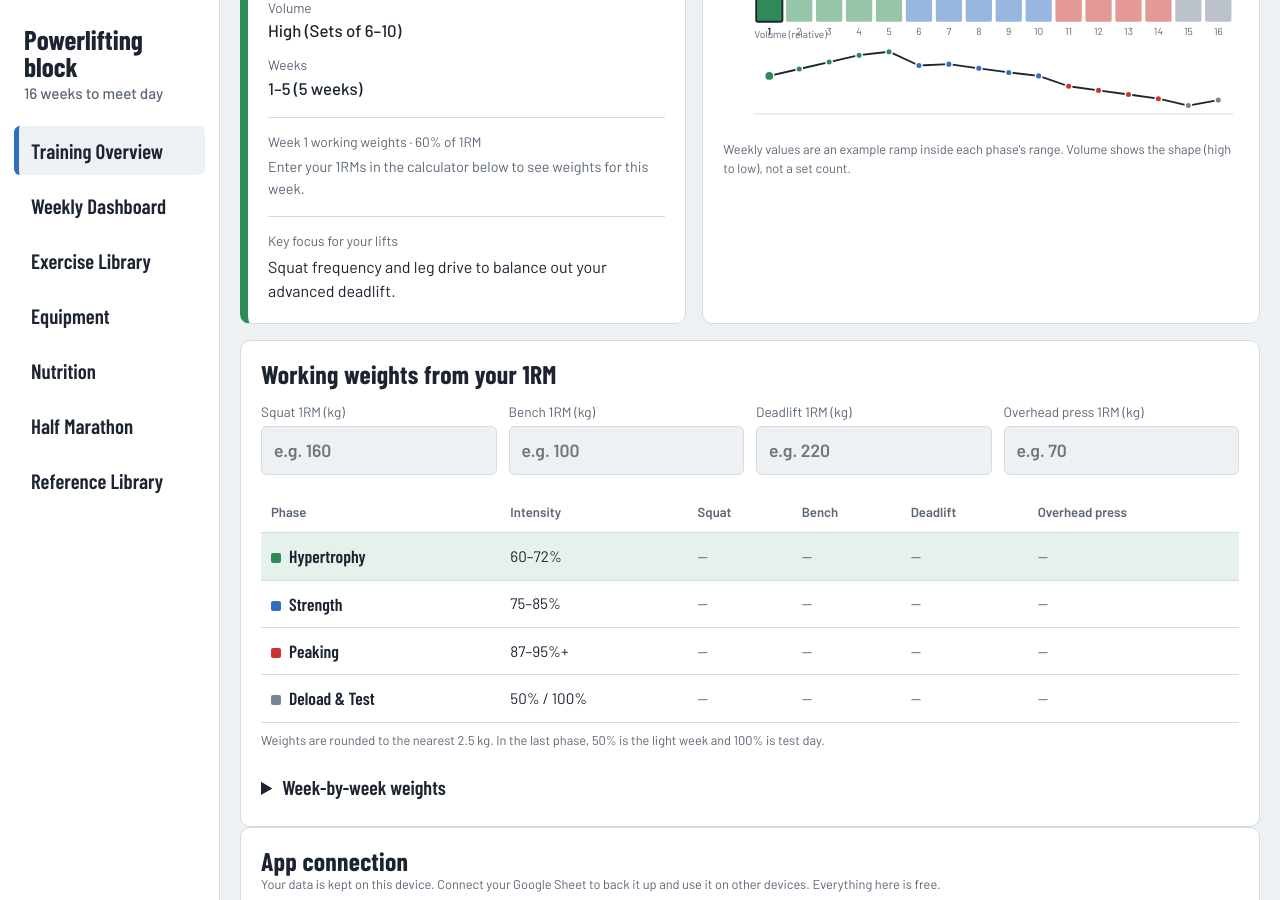
Scenario: weekly dashboard › shows working weights from the 1RM and the right week
(page scrolled)
Type "160" into the number field labelled "Squat 1RM (kg)" at [379, 450], box [261,426,496,475]
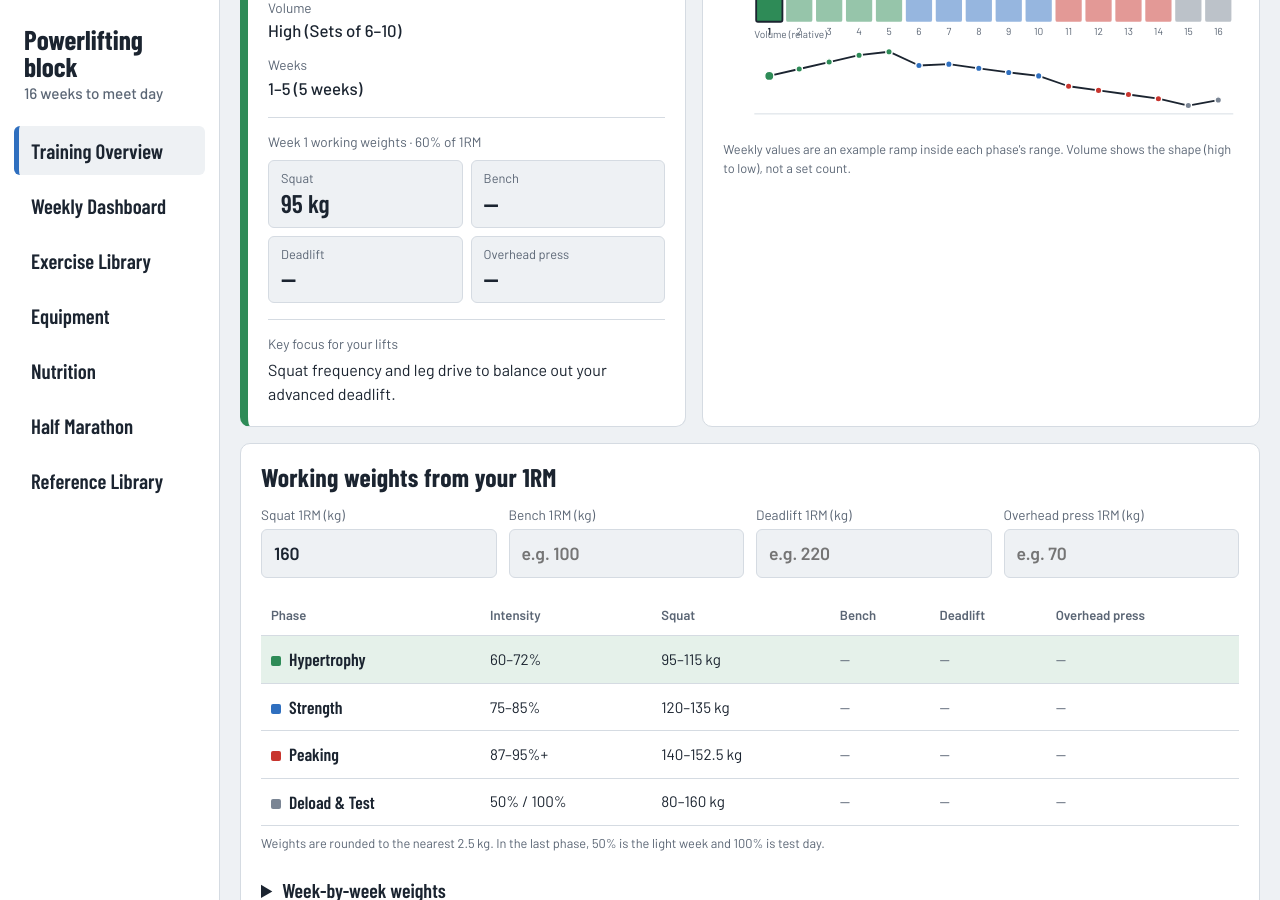
Click the button "Weekly Dashboard" at [110, 205], box [14,181,205,230]
(page scrolled)
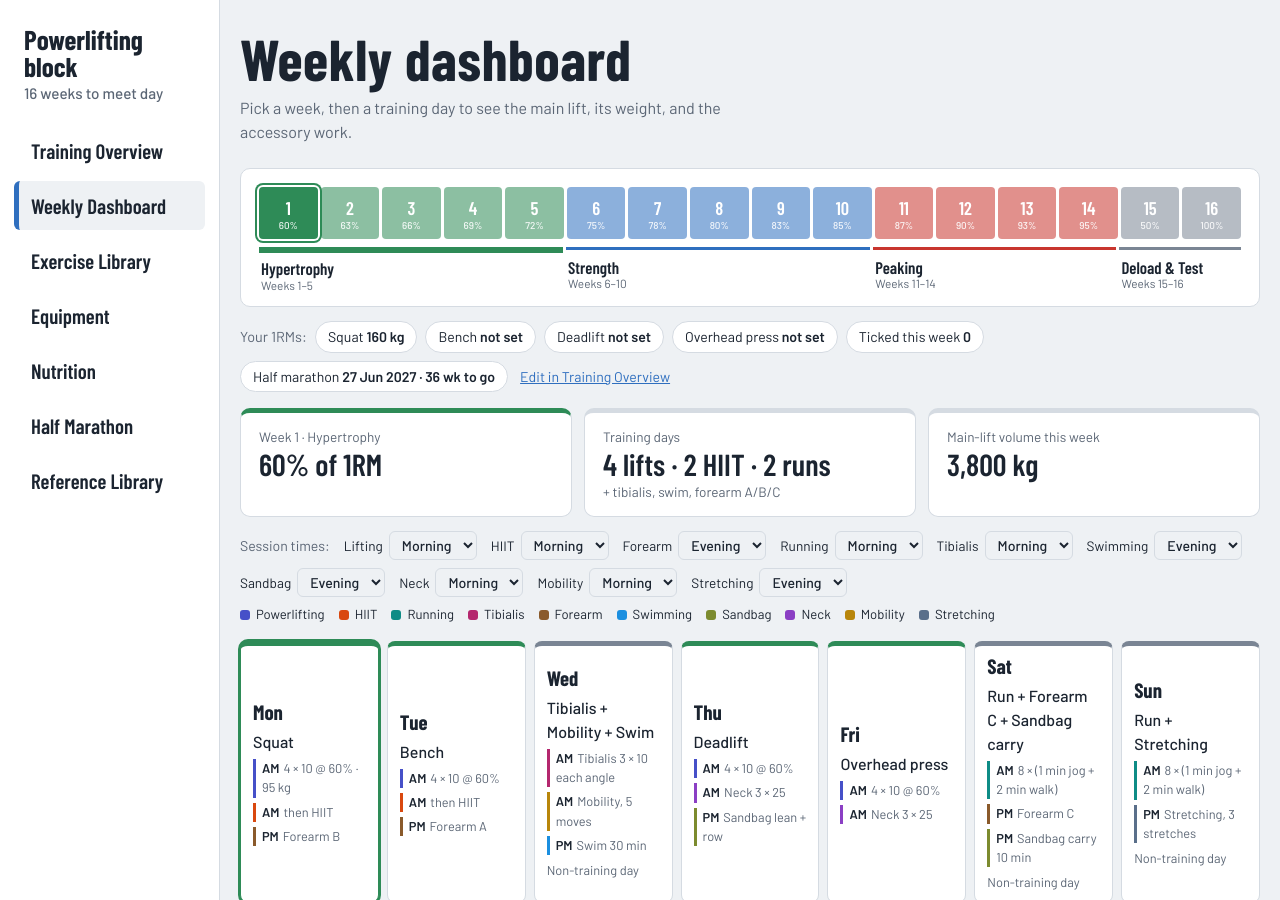
Click the button named "Week 6," at [596, 214], box [567,188,625,240]
(page scrolled)
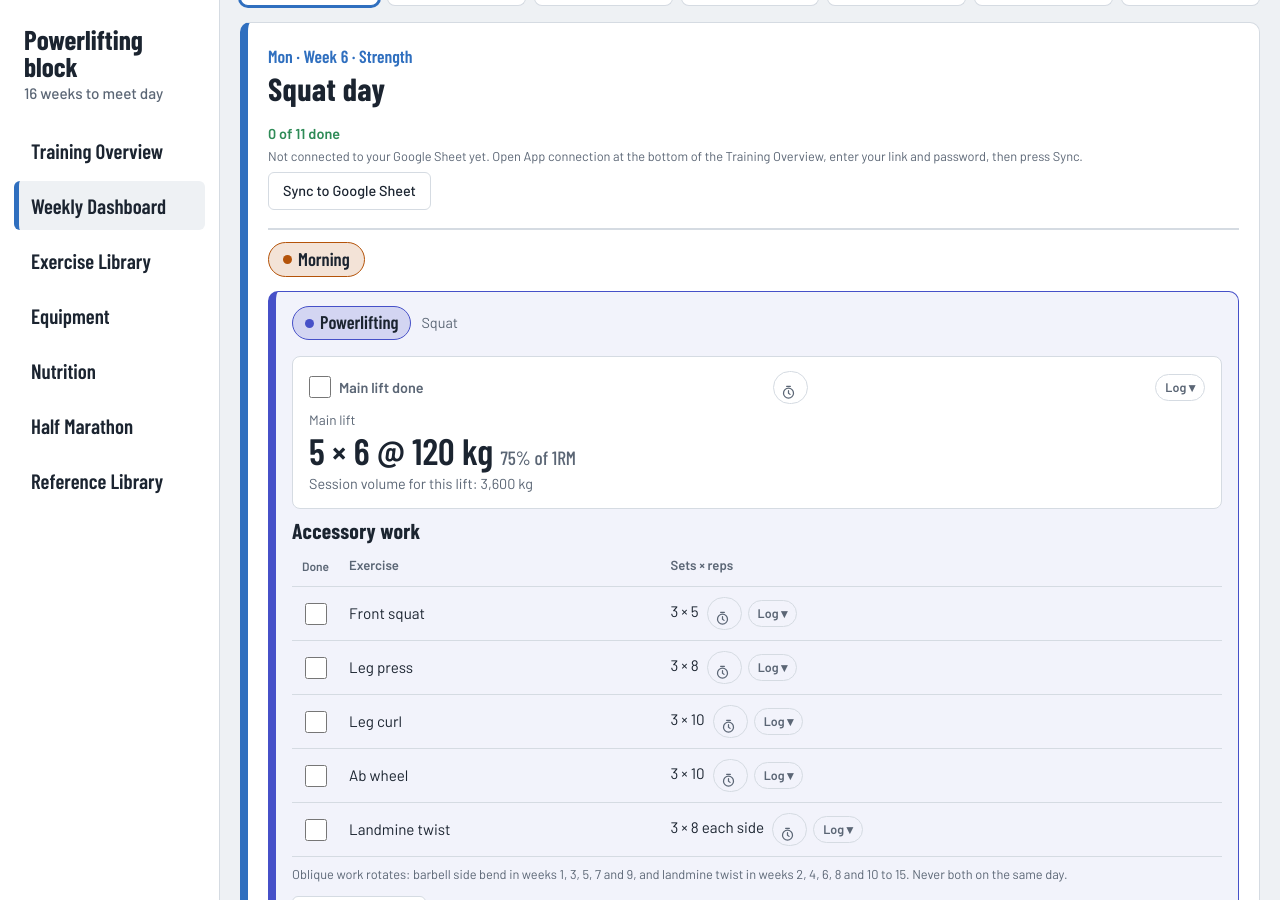
Result: the text "5 × 6 @ 120 kg 75% of 1RM" is shown at [309,428,576,472]
